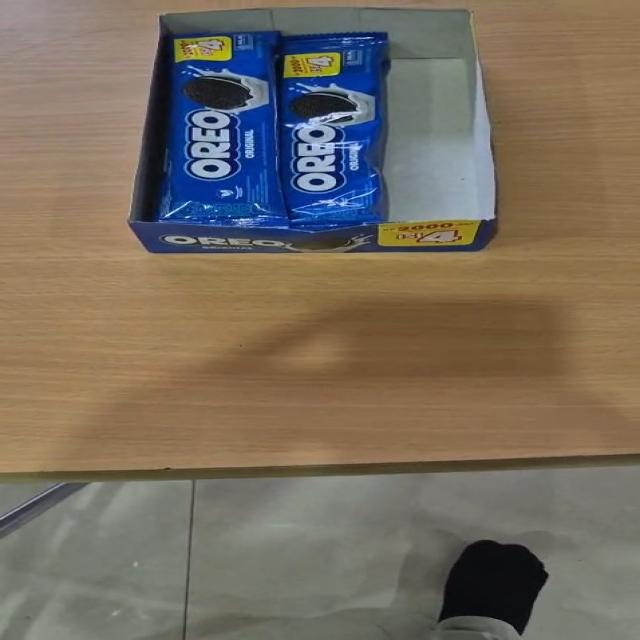Oreo: (154, 29, 288, 226), (274, 32, 391, 230)
